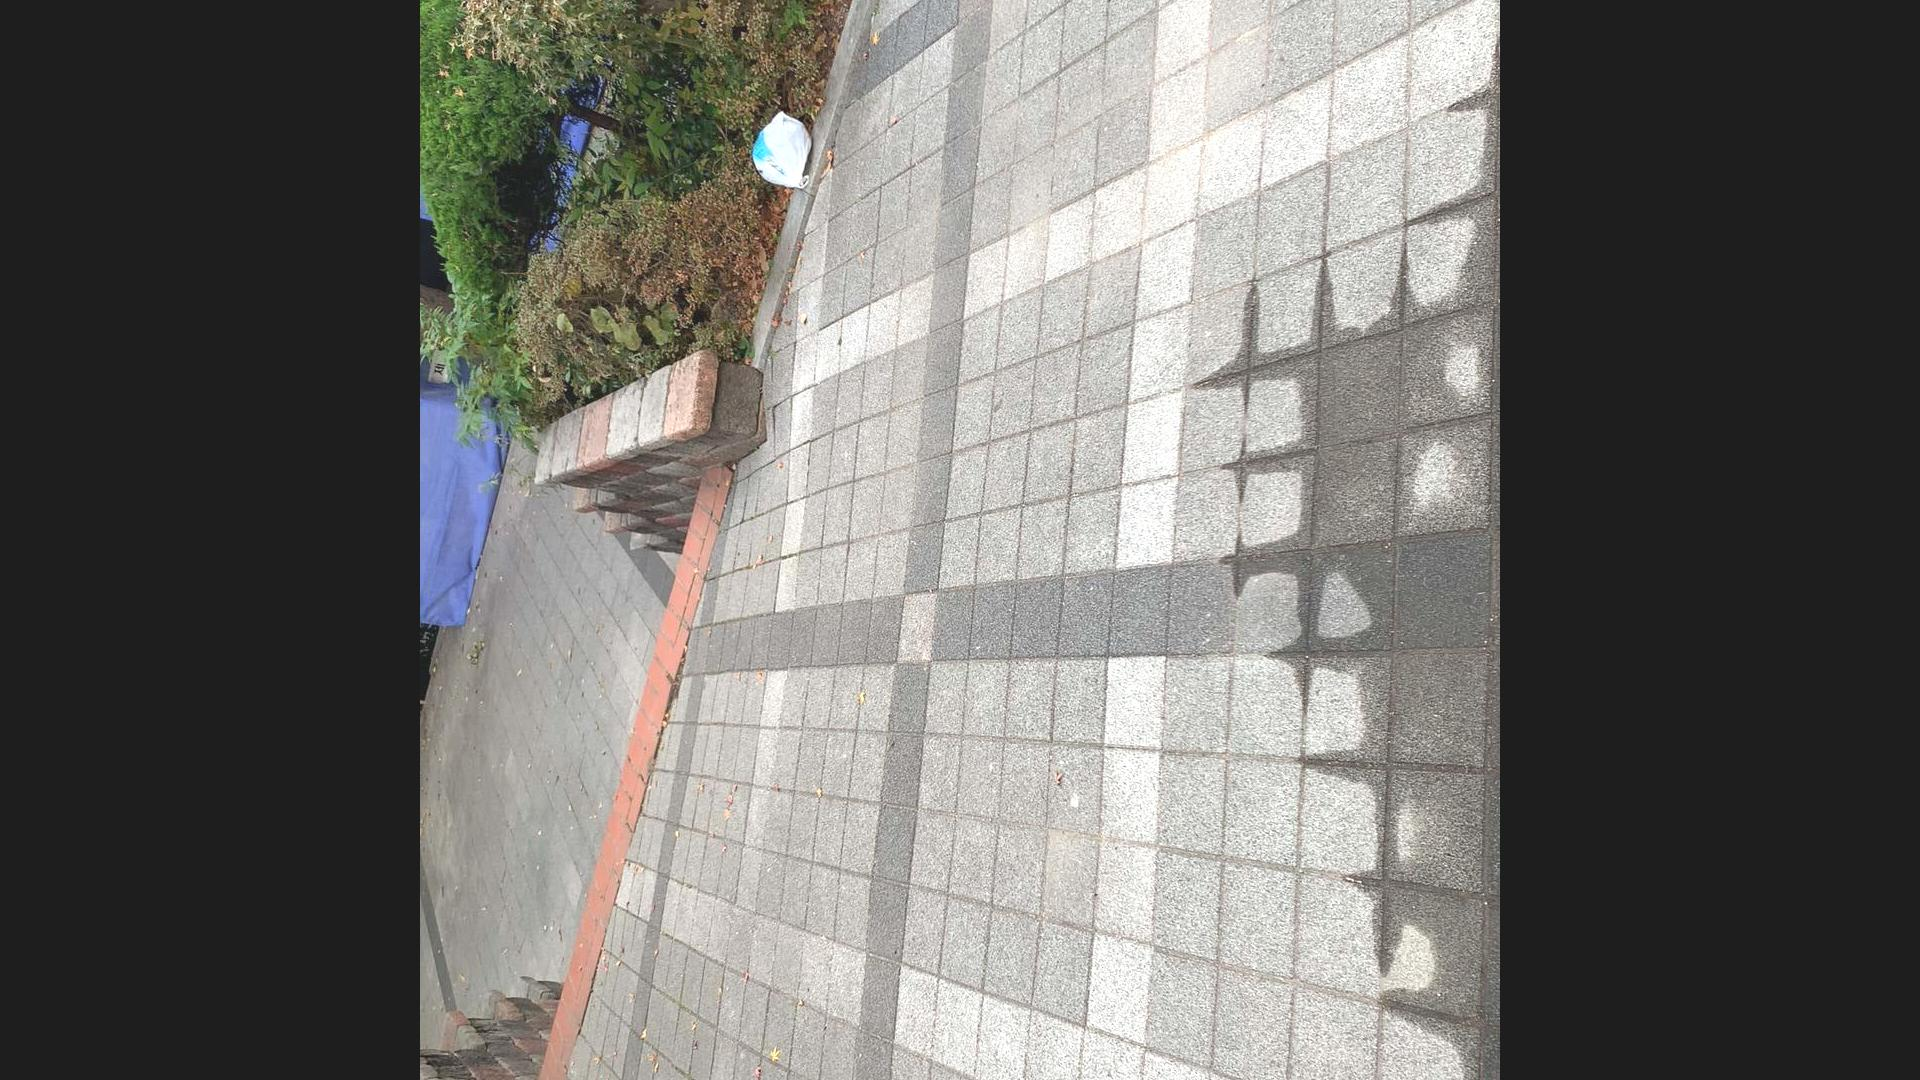white_bag: (745, 107, 819, 196)
